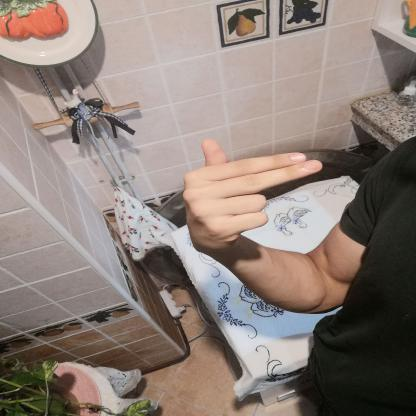GHAYN: (169, 130, 334, 260)
